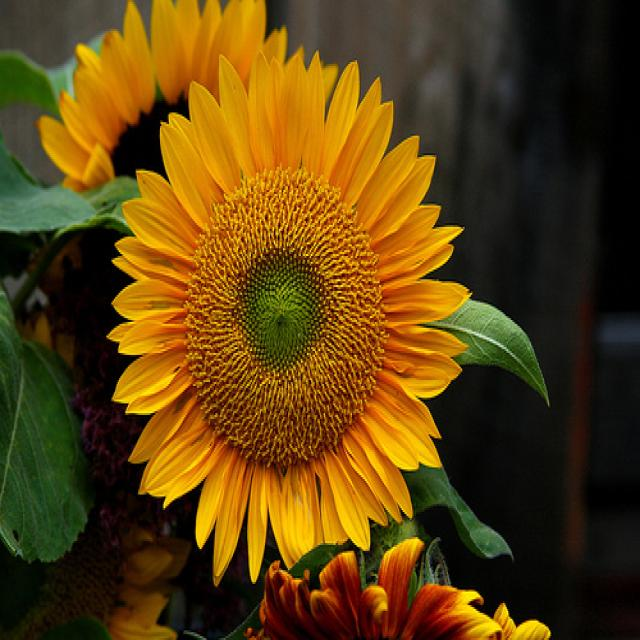sunflower: (102, 40, 475, 588), (31, 0, 290, 200)
